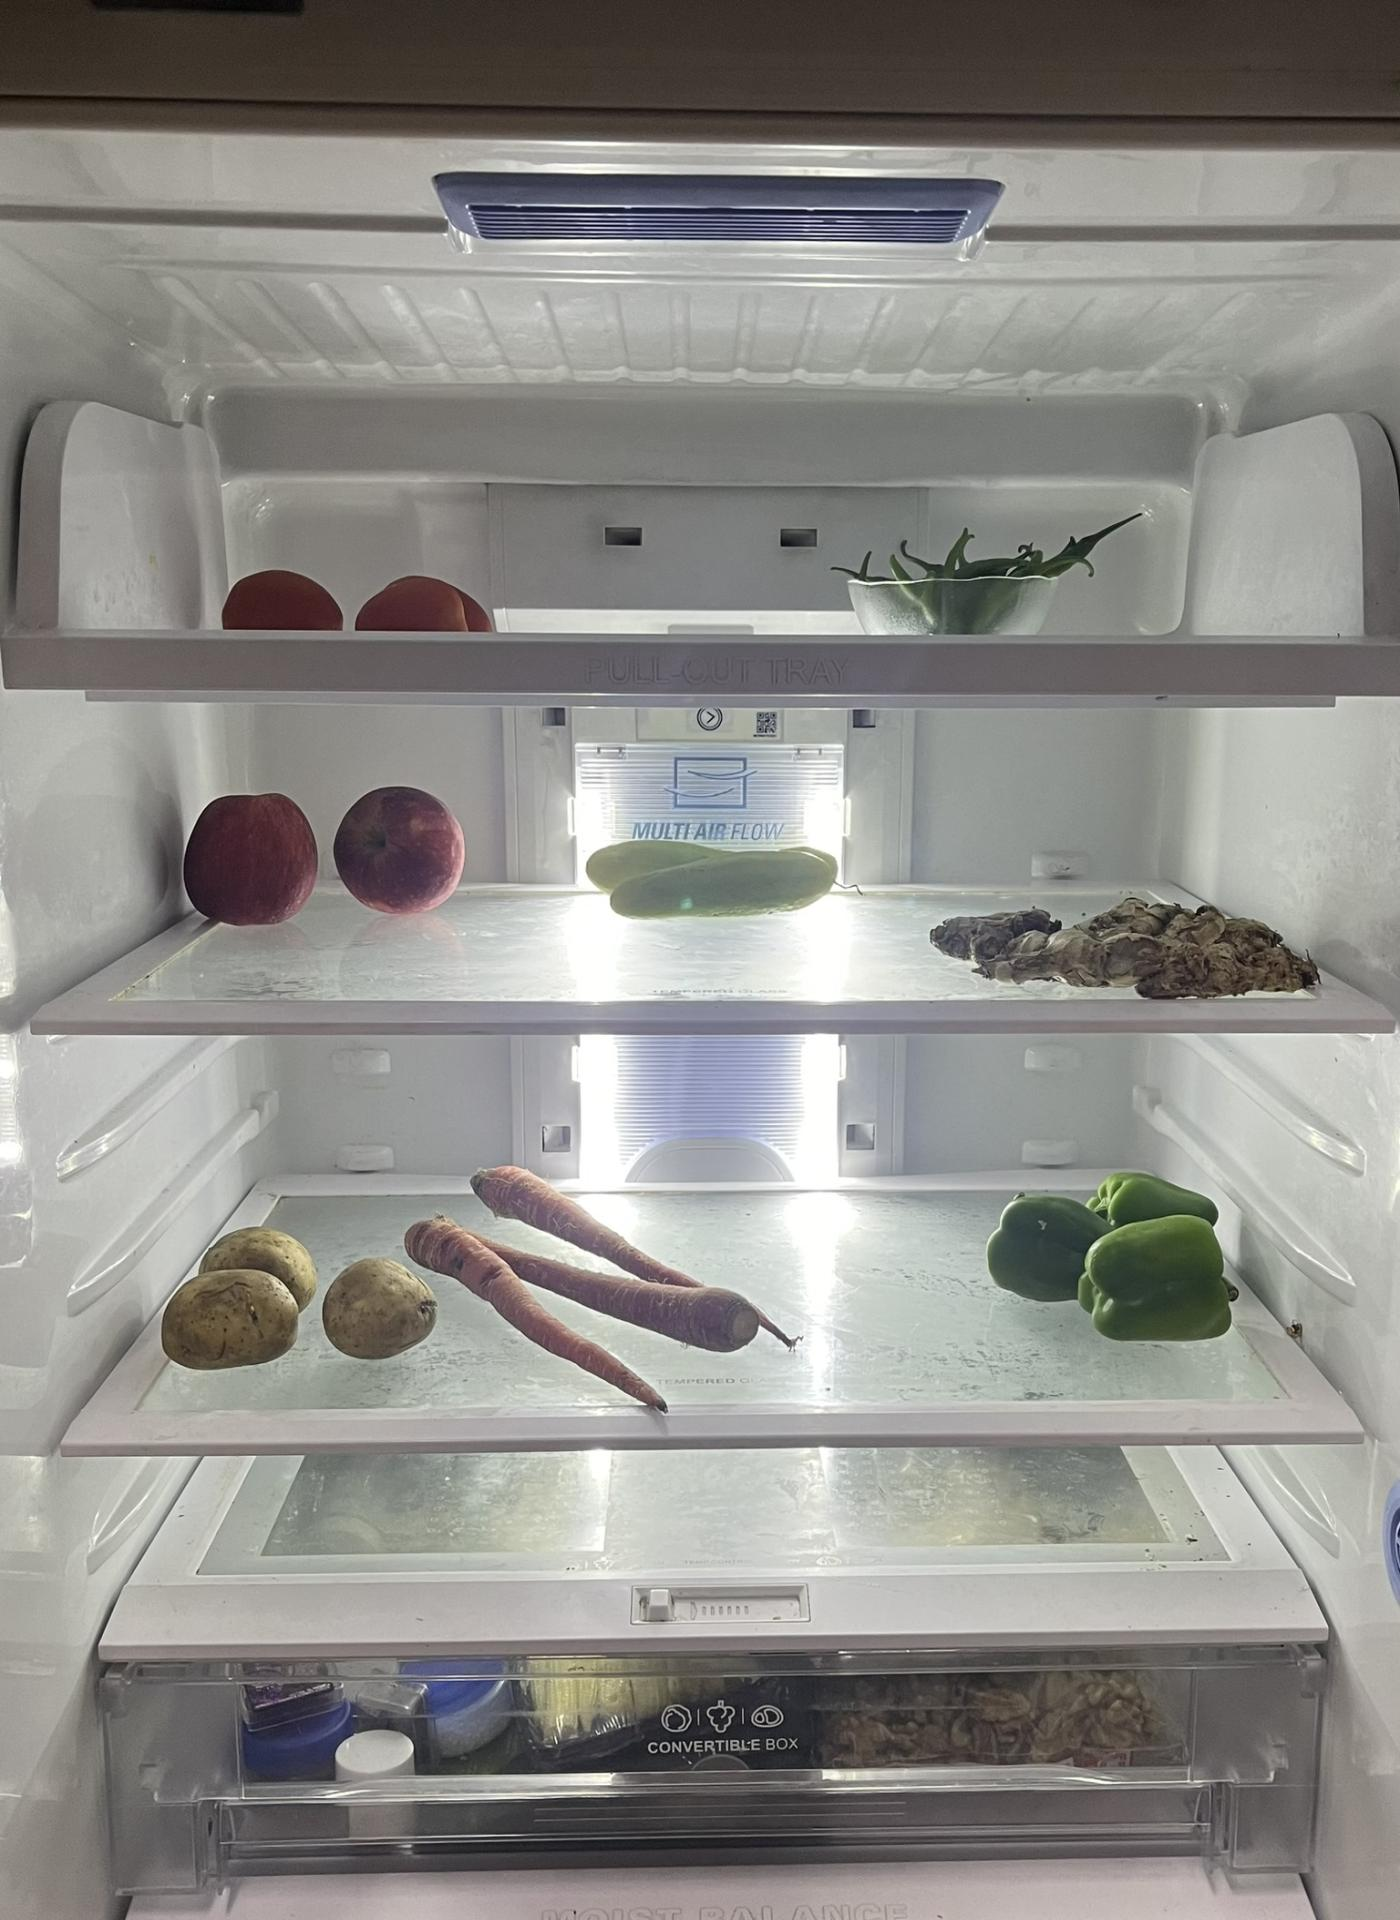apple: (328, 781, 477, 921), (179, 781, 316, 929)
cucumber: (589, 838, 847, 918)
ginger: (933, 893, 1309, 990)
tomato: (349, 568, 501, 641), (207, 550, 340, 631)
